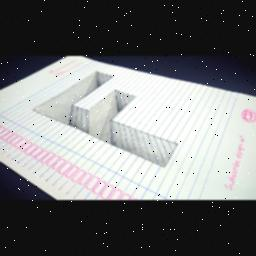f: (31, 69, 179, 173)
